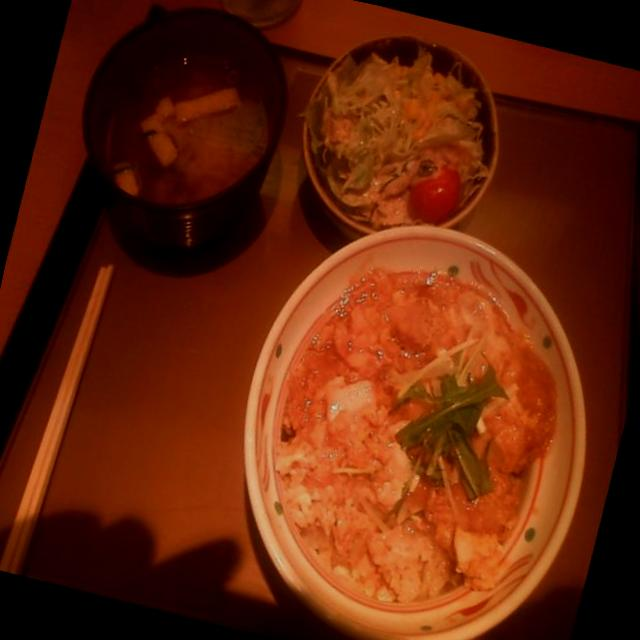Green Salad: (276, 23, 508, 255)
